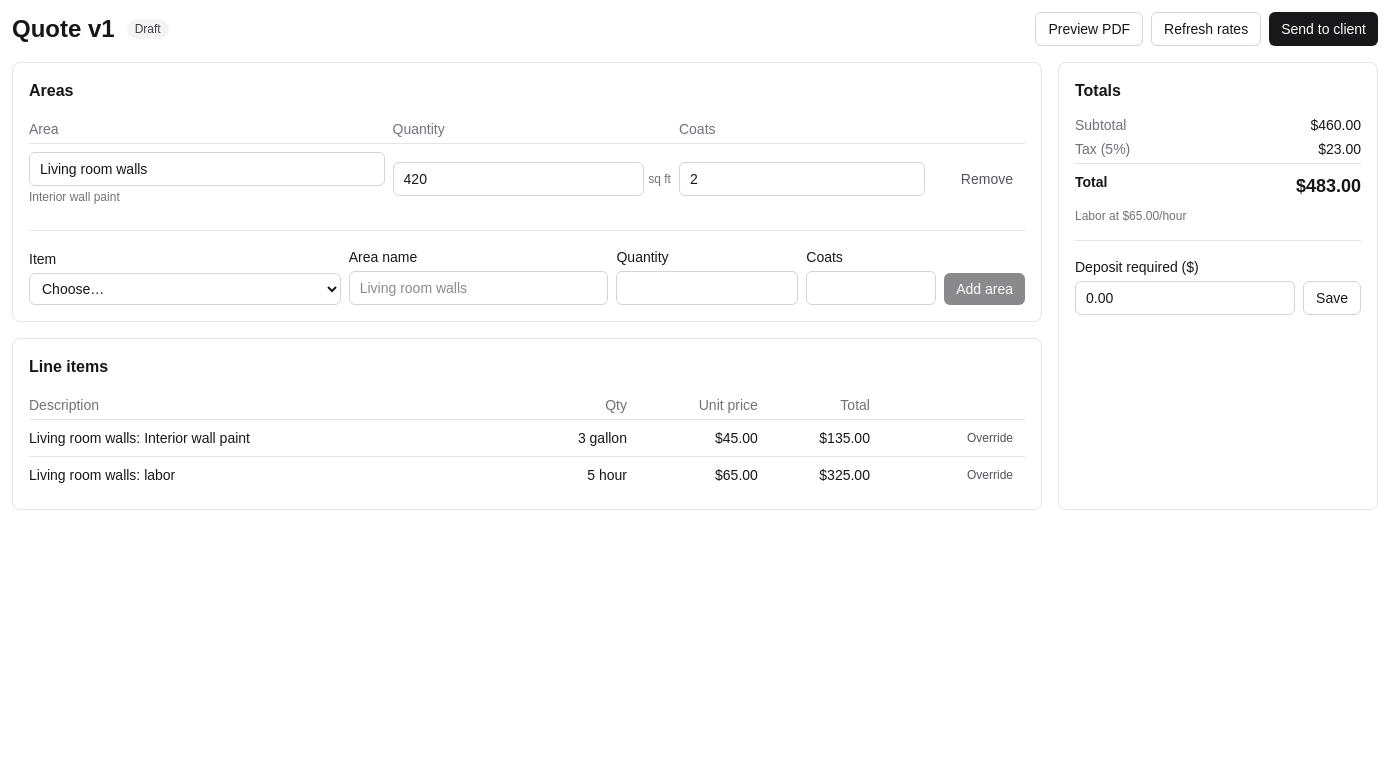
it: QuoteBuilder › sends the quote and shows the client link once
Click the button "Send to client".
click(1324, 29)  # box [1269,12,1378,46]
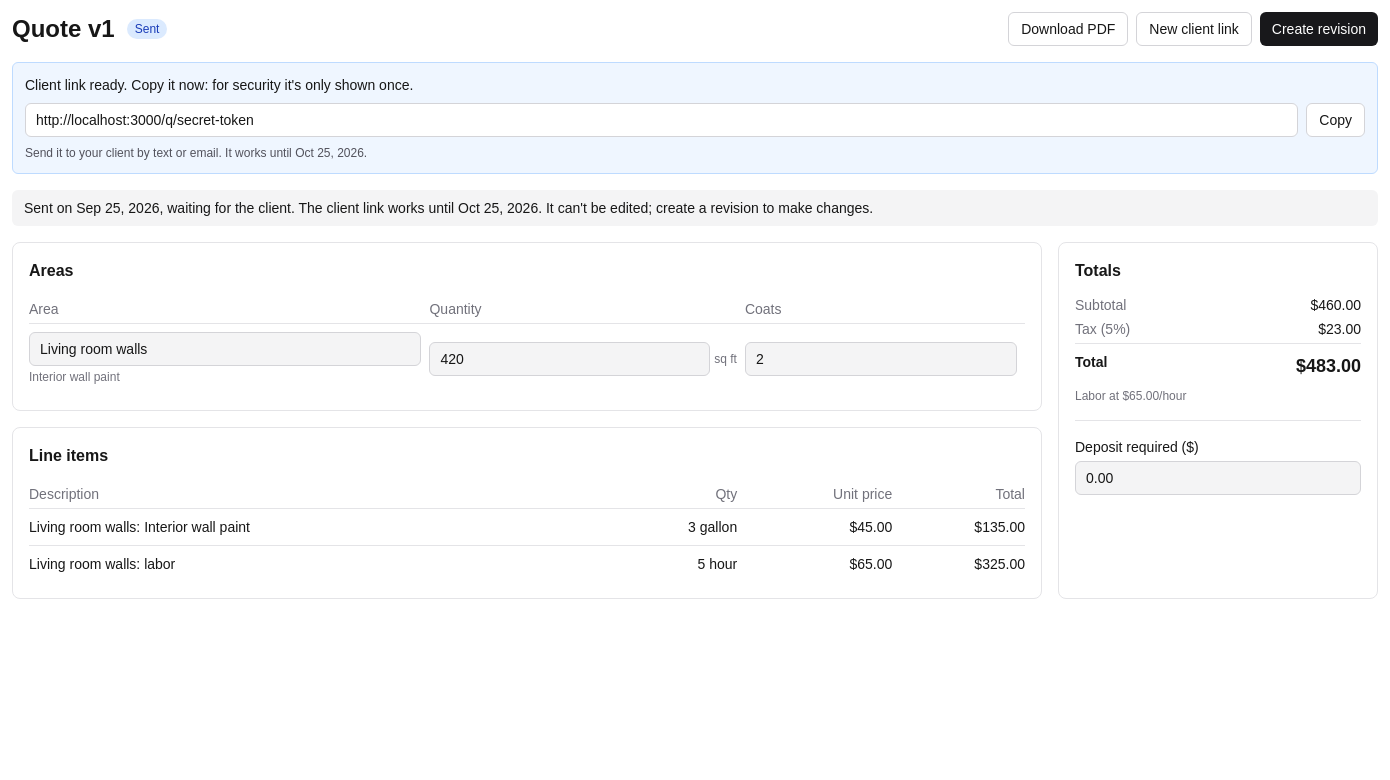
Result: the field named "Client link" holds "http://localhost:3000/q/secret-token" at [25,103,1298,137]
Result: the text "only shown once" is shown at [25,77,413,93]
Result: the button "Send to client" is gone
